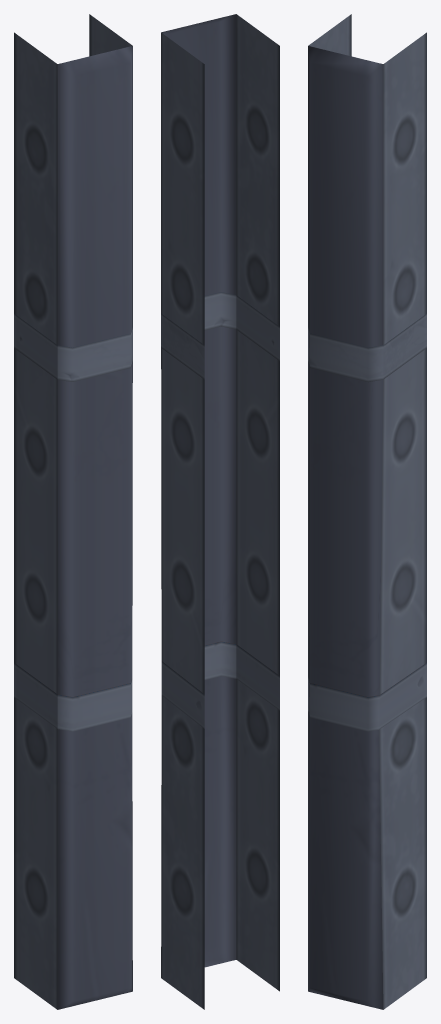
The model's file is obj_spaceship_wall06.fbx.
3 renders of one model, left to right at view 1: azimuth 30°, elevation 25°; view 2: azimuth 210°, elevation 25°; view 3: azimuth 330°, elevation 25°, orthographic.
Visible parts, largest first — view 1: spaceship_wall06; view 2: spaceship_wall06; view 3: spaceship_wall06.
Boxes of the visible parts, x1,y1,x2,y2 form: spaceship_wall06: (14,14,132,1009); spaceship_wall06: (161,14,279,1009); spaceship_wall06: (308,14,426,1009).
Bounding box in the file's own units: 1 × 12 × 1.15.
